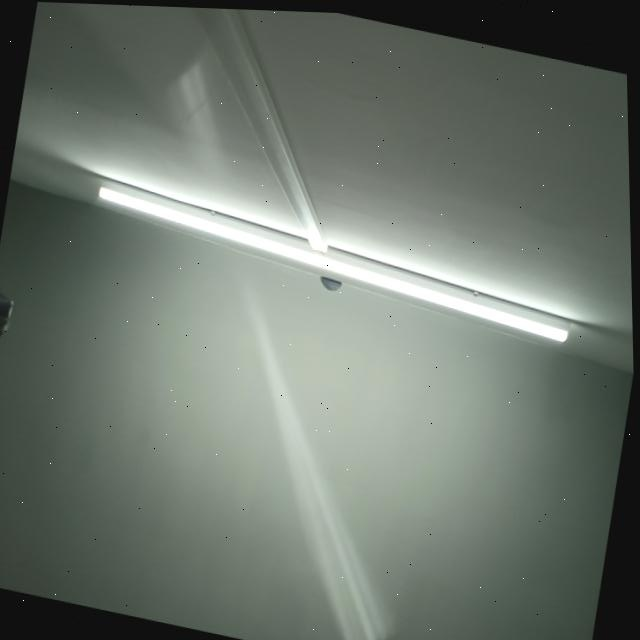fluorescent tube: (79, 168, 586, 358)
